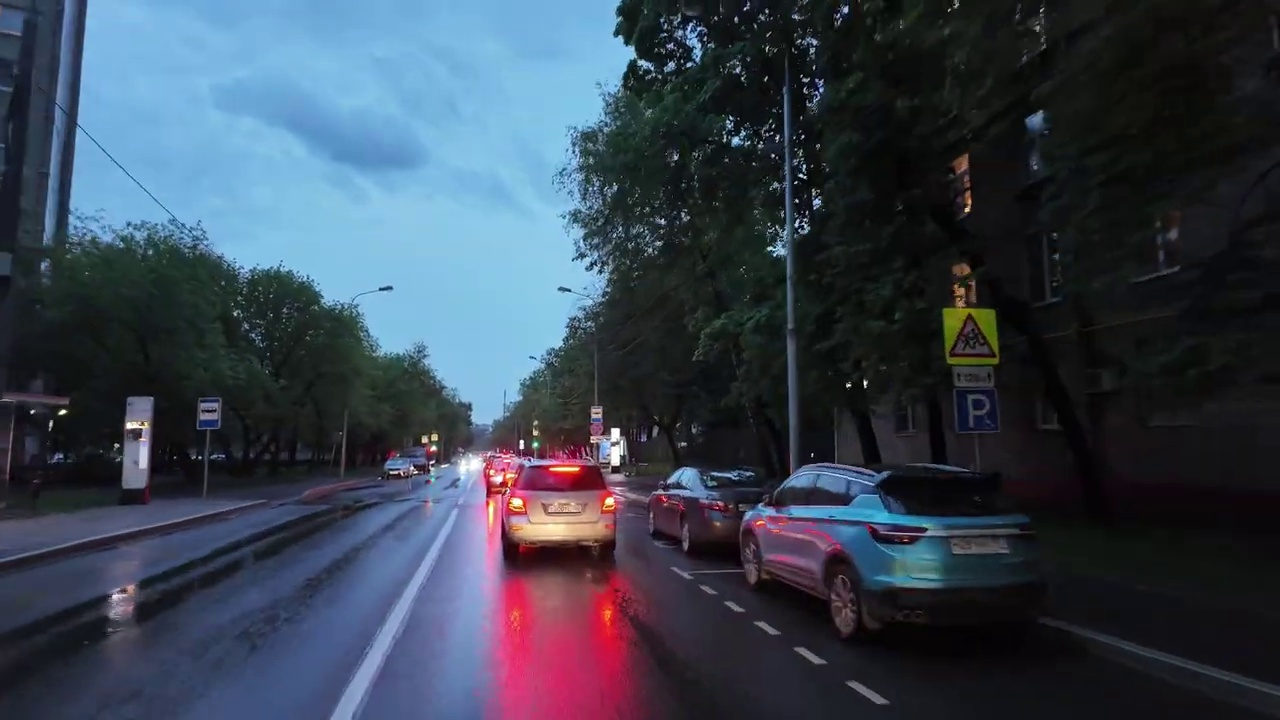apagada: (372, 280, 398, 301)
